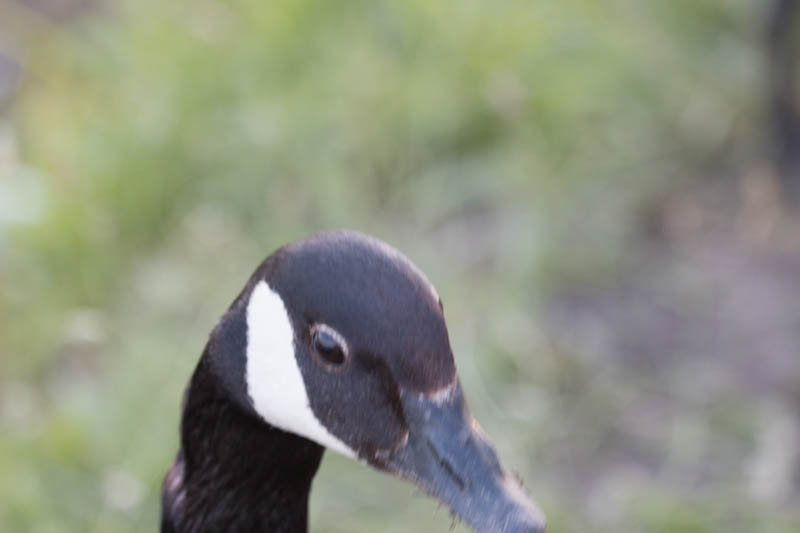goose-head: (197, 228, 552, 532)
